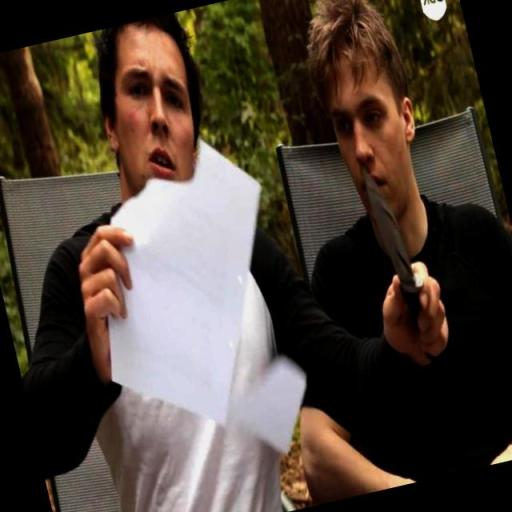knife: (358, 159, 440, 369)
